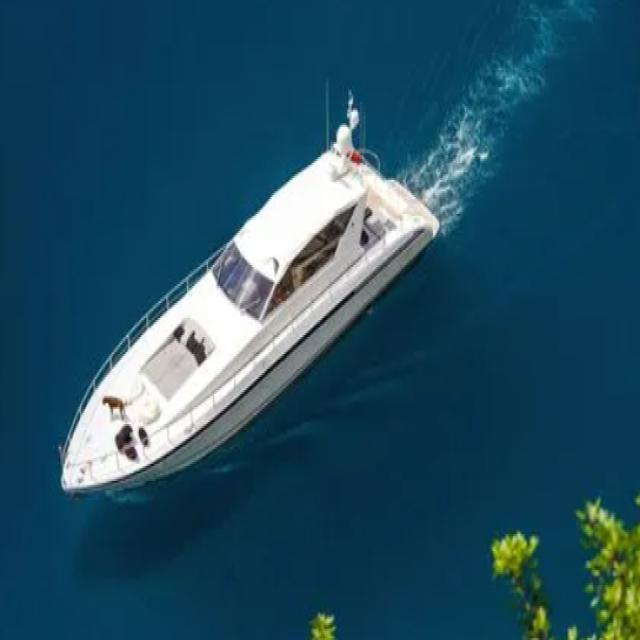houseboat: (54, 107, 439, 500)
